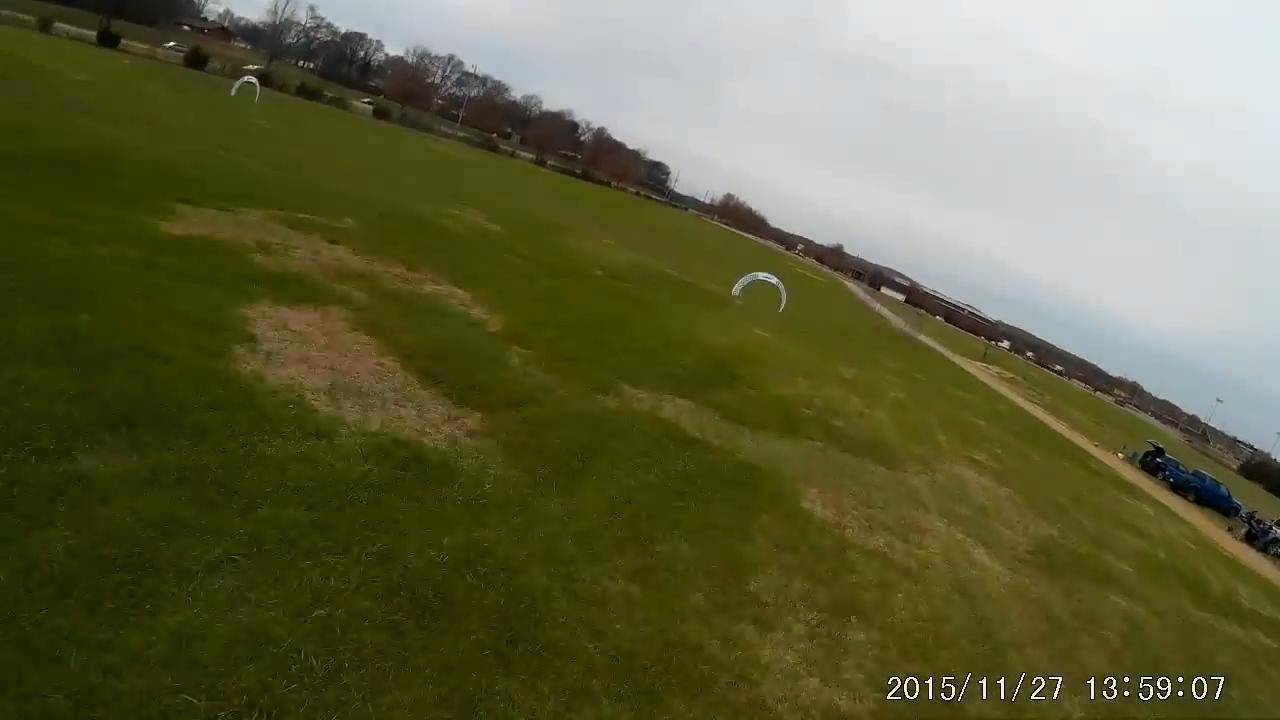gate: (730, 270, 790, 317)
